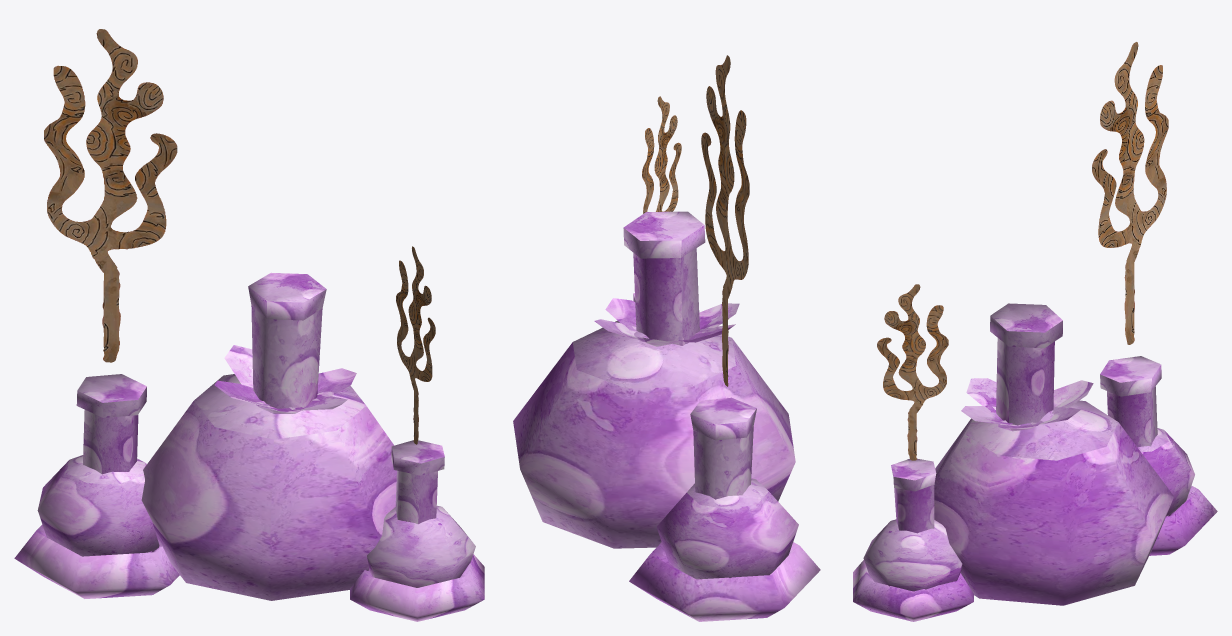
Rendered from flower-02-b-art.glb.
3 views of the same model, side by side, from view 1: azimuth 30°, elevation 25°; view 2: azimuth 150°, elevation 25°; view 3: azimuth 270°, elevation 25° (orthographic). The views are drawn at different scales.
Visible parts, largest first — view 1: Flower_02_b_Art; view 2: Flower_02_b_Art; view 3: Flower_02_b_Art.
Boxes of the visible parts, x1=… form: Flower_02_b_Art: x1=14, y1=29, x2=484, y2=621; Flower_02_b_Art: x1=513, y1=55, x2=820, y2=621; Flower_02_b_Art: x1=853, y1=42, x2=1217, y2=621.
Size of what is drawn, in the model's own units: 0.4914 by 0.7849 by 0.5256.
Materials: 2 (2 with a texture image).
